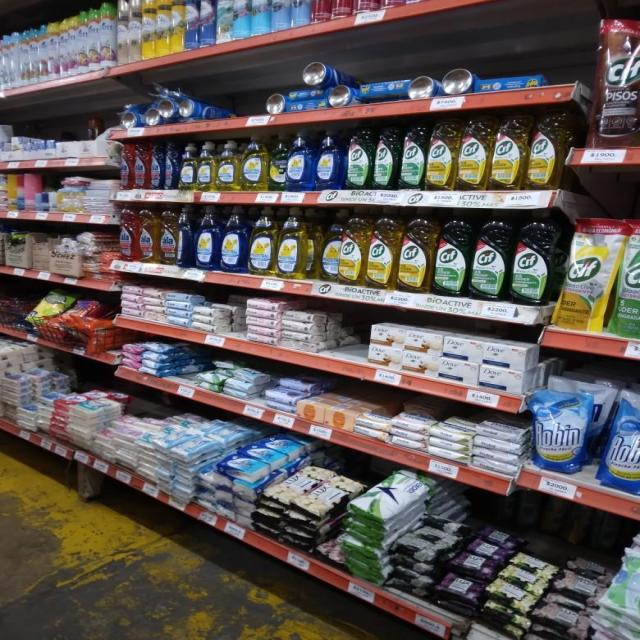ala_conc_amarillo: (139, 202, 158, 264), (159, 204, 177, 266)
ala_conc_azul: (164, 142, 180, 190), (150, 142, 164, 190)
ala_conc_rojo: (120, 201, 138, 262), (120, 143, 134, 191), (134, 143, 148, 190)
cif_conc_bot_amarilla: (399, 206, 434, 293), (528, 114, 565, 190), (491, 116, 526, 191), (368, 206, 398, 290), (458, 116, 489, 192), (426, 120, 457, 191), (339, 208, 366, 286)
cif_conc_botella_verde: (512, 209, 556, 305), (471, 208, 510, 302), (435, 207, 469, 297), (345, 126, 372, 190), (400, 123, 425, 191), (373, 126, 398, 190)
cif_conc_sachet_amarillo: (560, 218, 614, 332)
cif_conc_sachet_verde: (617, 221, 640, 340)
magistral_con_amarillo: (278, 206, 308, 280), (250, 206, 276, 276), (242, 134, 268, 192), (320, 208, 340, 282), (217, 140, 240, 192), (197, 141, 216, 192), (180, 142, 196, 191)
magistral_con_azul: (221, 205, 248, 273), (316, 128, 344, 191), (287, 129, 314, 192), (195, 204, 219, 270), (178, 204, 194, 268)
